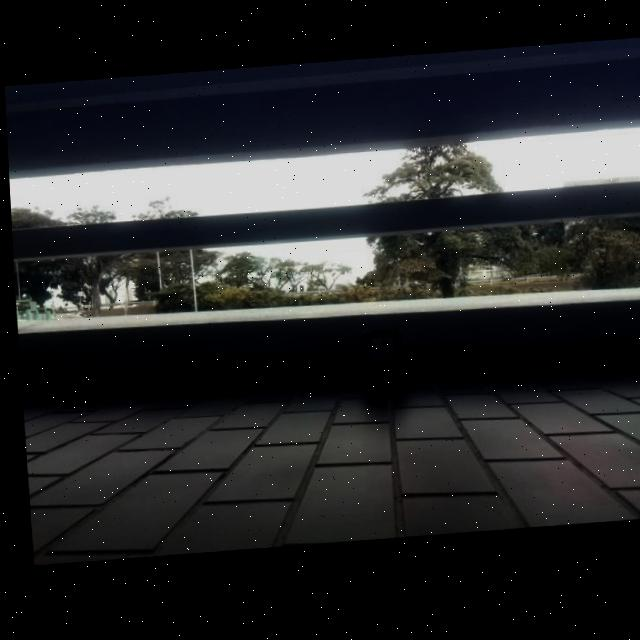A: (371, 342, 386, 362)
